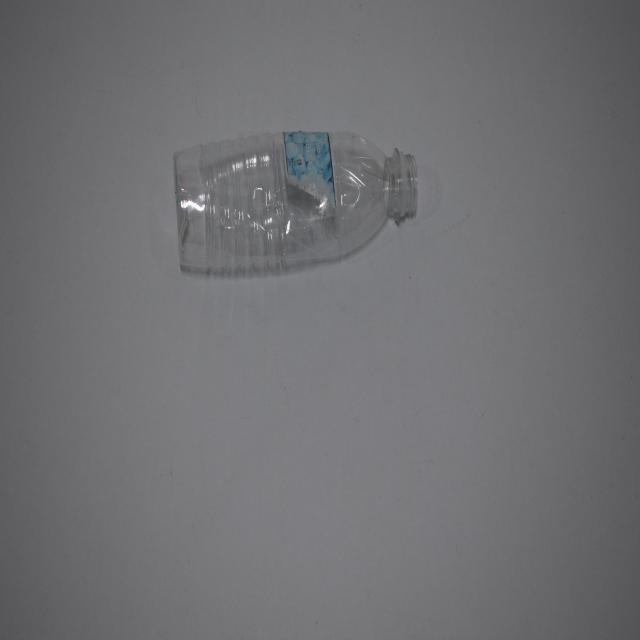plastic: (169, 120, 420, 275)
